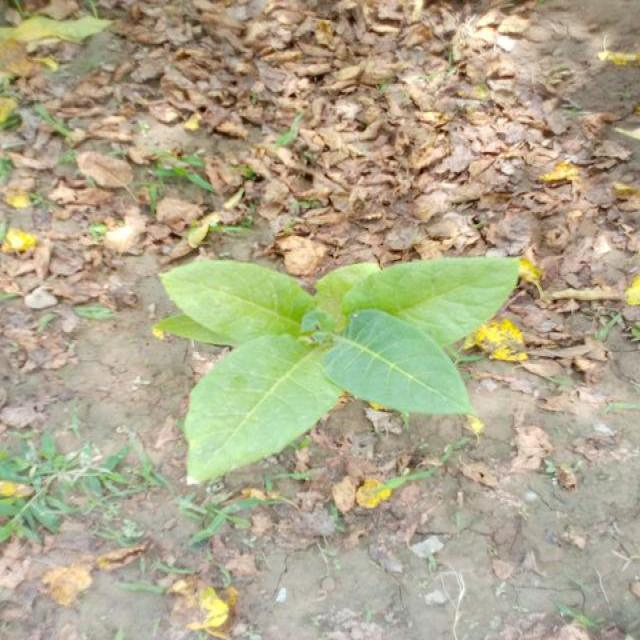crop: (150, 251, 519, 489)
